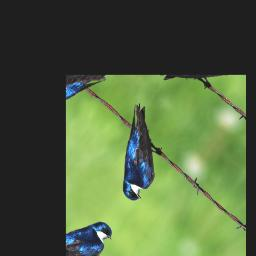Swallow: (90, 101, 185, 206)
